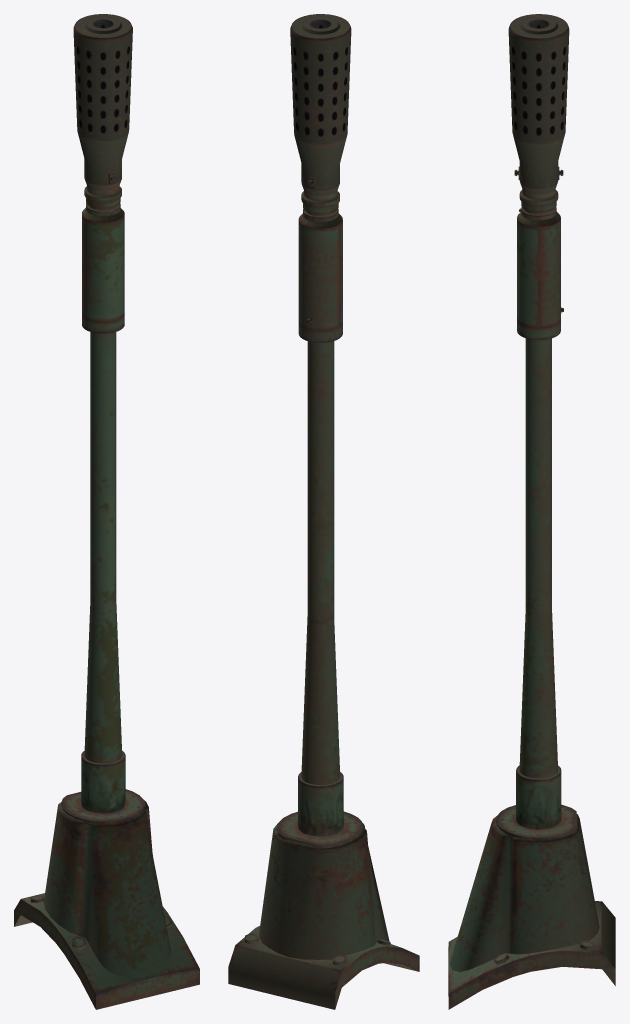
Rendered from Gun_09.glb.
3 renders of one model, left to right at view 1: azimuth 30°, elevation 25°; view 2: azimuth 150°, elevation 25°; view 3: azimuth 270°, elevation 25°, orthographic. The views are drawn at different scales.
Parts seen in each view (by area): view 1: set_0_group_0; view 2: set_0_group_0; view 3: set_0_group_0.
Part boxes in pixels (x1=…): set_0_group_0: x1=14, y1=14, x2=199, y2=1009; set_0_group_0: x1=228, y1=14, x2=419, y2=1009; set_0_group_0: x1=448, y1=14, x2=615, y2=1009.
Size of the model in its own units: 0.4668 by 4.04 by 0.6379.
Materials: 1 (1 with a texture image).
